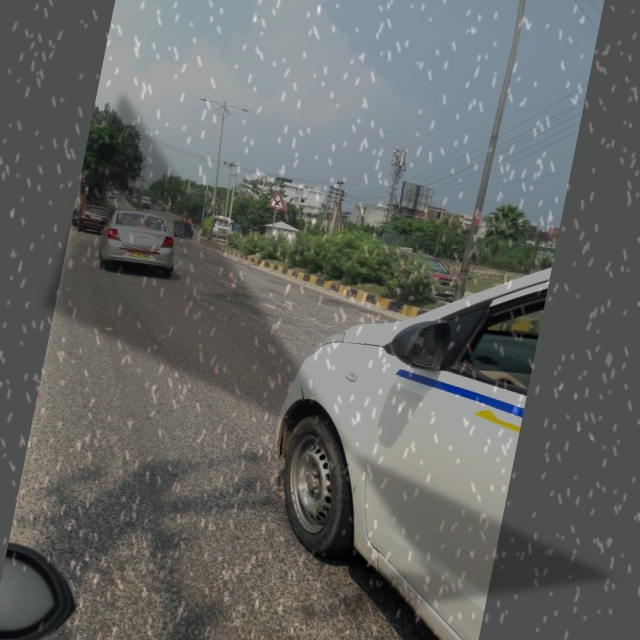Cross_Road: (263, 182, 294, 214)
